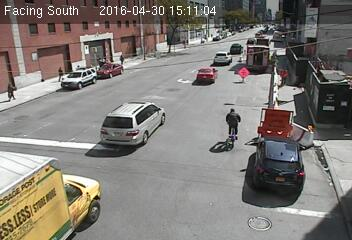neg: (216, 104, 250, 150), (78, 160, 107, 198), (164, 37, 191, 74), (39, 90, 61, 120), (271, 179, 293, 208), (138, 10, 160, 39), (154, 89, 175, 117), (190, 170, 210, 196), (115, 98, 134, 123), (227, 10, 246, 35), (173, 124, 192, 149), (321, 54, 339, 78), (146, 153, 163, 176), (47, 12, 64, 34), (81, 81, 97, 103), (288, 14, 304, 36), (266, 27, 282, 48), (92, 51, 107, 71), (213, 24, 227, 44), (23, 26, 37, 46), (314, 16, 328, 34), (232, 77, 246, 95), (36, 132, 49, 149), (298, 112, 310, 129), (90, 22, 102, 37), (262, 75, 273, 90), (318, 163, 328, 177), (289, 61, 299, 75), (84, 117, 94, 130), (194, 92, 201, 102)
pos: (2, 78, 19, 101), (55, 64, 67, 80), (116, 51, 127, 66)
